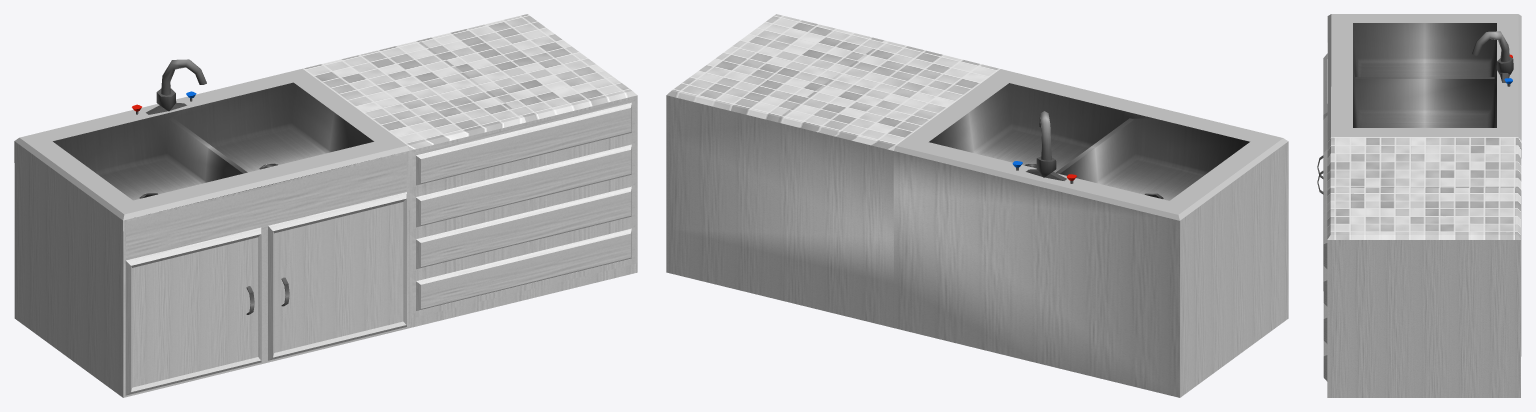
The model's file is Open_Kitchencounter_D.FBX.
3 renders of one model, left to right at view 1: azimuth 30°, elevation 25°; view 2: azimuth 150°, elevation 25°; view 3: azimuth 270°, elevation 25°, orthographic. The views are drawn at different scales.
Parts seen in each view (by area): view 1: Open_Counter_D, Door_ R_D, Door_ L_D, Drawer_D_2, Drawer_D_1, Drawer_D_3, Drawer_D_4; view 2: Open_Counter_D; view 3: Open_Counter_D, Drawer_D_1, Door_ L_D, Door_ R_D.
Part boxes in pixels (left/top/right/bottom): Open_Counter_D: left=14, top=14, right=637, bottom=397; Door_ R_D: left=268, top=192, right=406, bottom=360; Door_ L_D: left=125, top=227, right=261, bottom=395; Drawer_D_2: left=416, top=144, right=631, bottom=227; Drawer_D_1: left=416, top=102, right=631, bottom=185; Drawer_D_3: left=416, top=186, right=631, bottom=269; Drawer_D_4: left=416, top=228, right=631, bottom=310; Open_Counter_D: left=666, top=14, right=1288, bottom=397; Open_Counter_D: left=1327, top=14, right=1521, bottom=397; Drawer_D_1: left=1323, top=149, right=1327, bottom=268; Door_ L_D: left=1317, top=53, right=1327, bottom=178; Door_ R_D: left=1317, top=115, right=1327, bottom=290.
Bounding box in the file's own units: 410 × 179 × 158.
